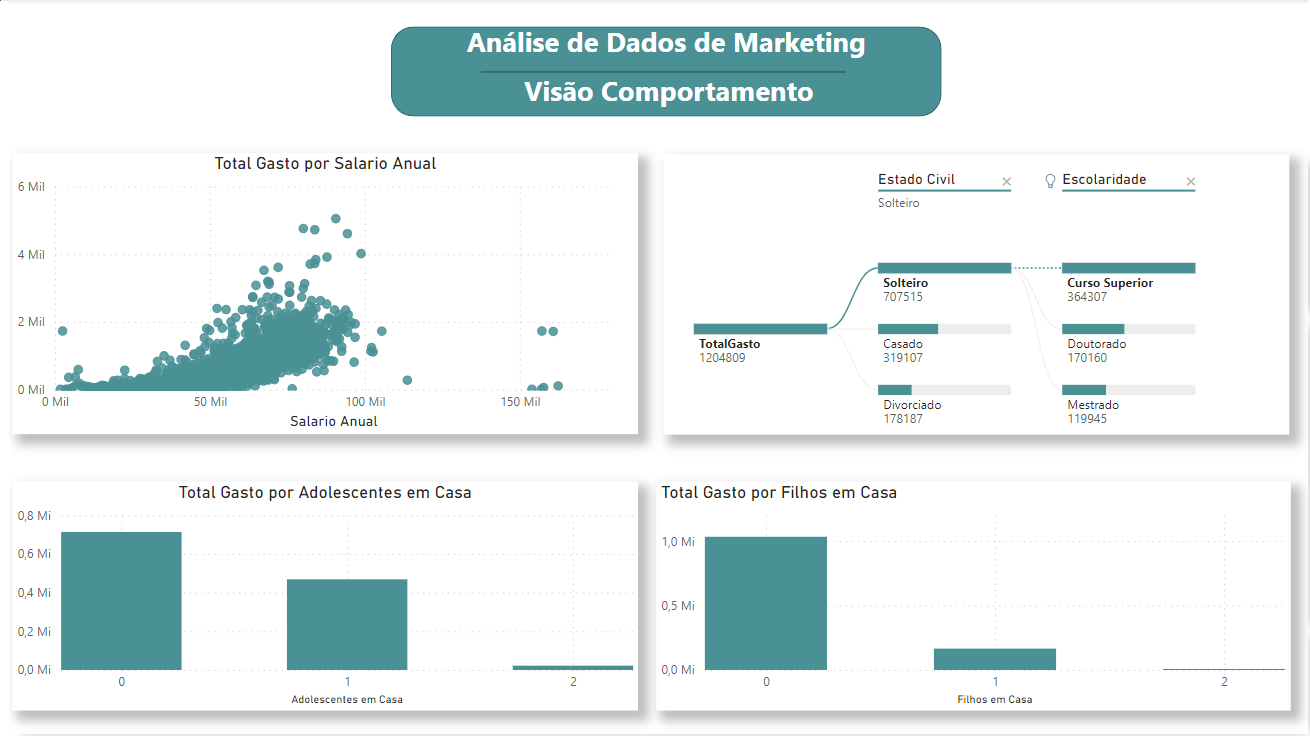

This screenshot's page, from the dashboard's own definition file:
{"tool":"powerbi","page":{"name":"Visão Comportamento","canvas":[1280,720],"ordinal":1},"visuals":[{"type":"scatterChart","title":"Total Gasto por Salario Anual","fields":{"X":["DadosMarketing.Salario Anual"],"Y":["DadosMarketing.TotalGasto"]},"box":[11.1,150.3,612.2,275.5],"z":0},{"type":"clusteredColumnChart","title":"Total Gasto por Filhos em Casa","fields":{"Y":["DadosMarketing.TotalGasto"],"Category":["DadosMarketing.Filhos em Casa"]},"box":[640,471.7,620.5,224],"z":1000},{"type":"clusteredColumnChart","title":"Total Gasto por Adolescentes em Casa","fields":{"Category":["DadosMarketing.Adolescentes em Casa"],"Y":["DadosMarketing.TotalGasto"]},"box":[11.1,471.7,612.2,224],"z":2000},{"type":"decompositionTreeVisual","fields":{"Analyze":["DadosMarketing.TotalGasto"],"ExplainBy":["DadosMarketing.Estado Civil","DadosMarketing.Escolaridade"]},"box":[648.3,151.7,612.2,274.1],"z":3000},{"type":"shape","box":[381.8,26.8,538.4,88.1],"z":4000},{"type":"shape","title":"linha","box":[469.8,26.8,356.9,88.4],"z":5000},{"type":"textbox","title":"texto marketing","box":[381.5,17.8,538.4,52.9],"z":6000},{"type":"textbox","title":"visao cliente","box":[387,70.7,531.5,43.1],"z":7000}]}

Visuals, with their boxes in screenshot pixels (x1, y1, x2, y2), scaled from the page's 1280x720 canvas onto the 1310x736 screenshot:
"Total Gasto por Salario Anual" scatterChart: (11, 154, 638, 435)
"Total Gasto por Filhos em Casa" clusteredColumnChart: (655, 482, 1290, 711)
"Total Gasto por Adolescentes em Casa" clusteredColumnChart: (11, 482, 638, 711)
decompositionTreeVisual - DadosMarketing.TotalGasto x DadosMarketing.Estado Civil: (663, 155, 1290, 435)
shape: (391, 27, 942, 117)
"linha" shape: (481, 27, 846, 118)
"texto marketing" textbox: (390, 18, 941, 72)
"visao cliente" textbox: (396, 72, 940, 116)
